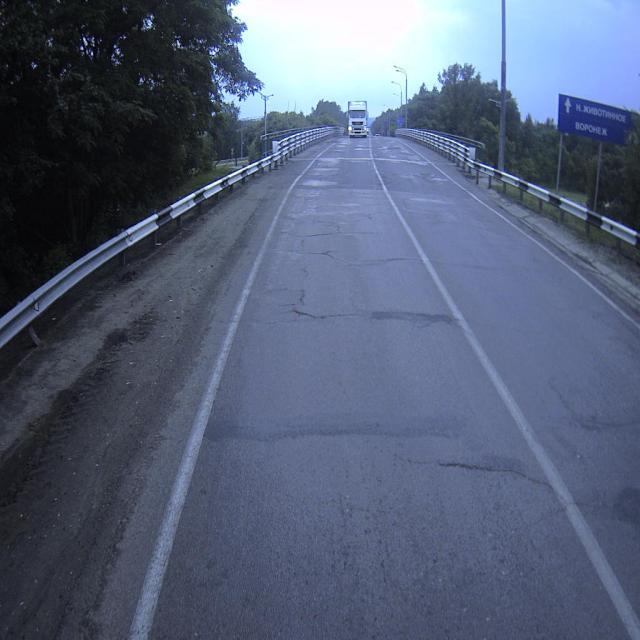road: (47, 136, 640, 639)
